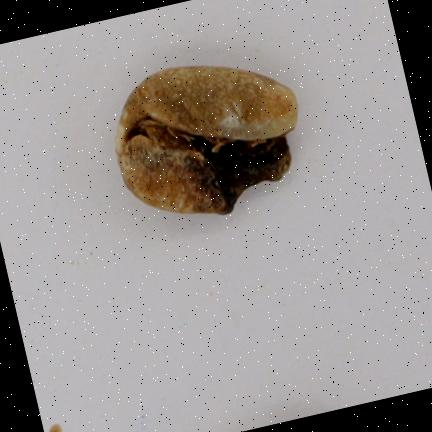cut: (115, 67, 297, 214)
